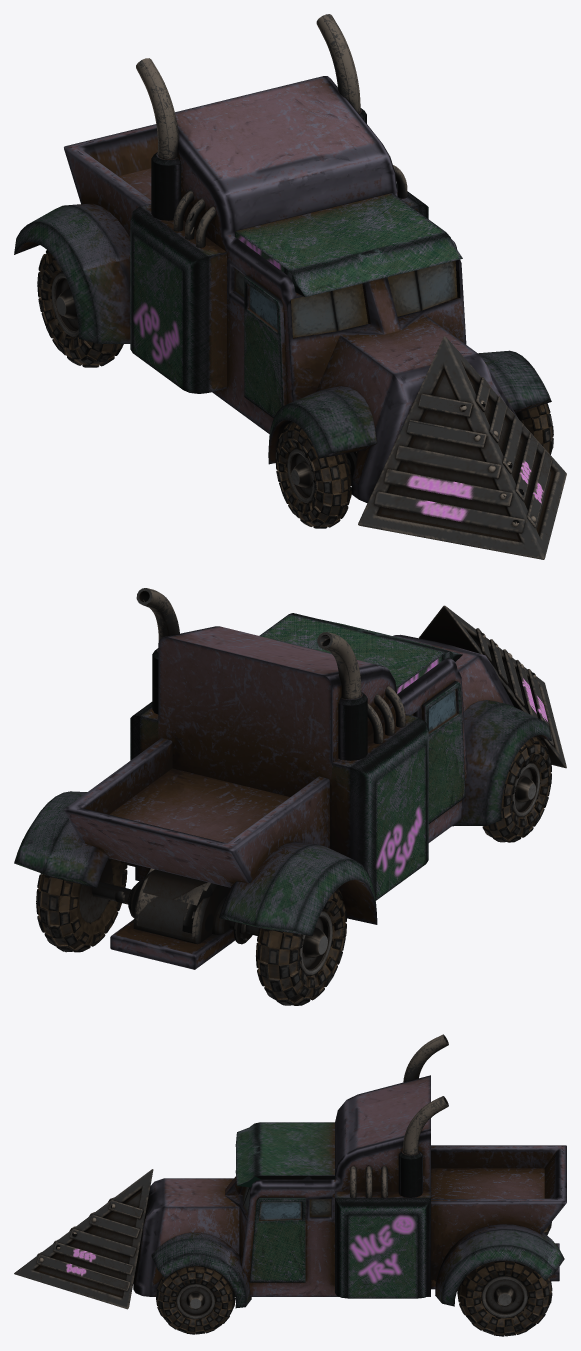
The model's file is Truck Mk1.fbx.
The picture shows the model from 3 angles, top to bottom: view 1: azimuth 30°, elevation 25°; view 2: azimuth 150°, elevation 25°; view 3: azimuth 270°, elevation 25°; orthographic projection. The views are drawn at different scales.
Parts seen in each view (by area): view 1: truck_main, t_front_R, t_rear_R, t_front_L; view 2: truck_main, t_rear_R, t_rear_L, t_front_R; view 3: truck_main, t_rear_L, t_front_L.
Boxes of the visible parts, box(x1,y1,x2,y2) form: truck_main: box(14, 14, 566, 559); t_front_R: box(275, 421, 351, 528); t_rear_R: box(37, 250, 123, 367); t_front_L: box(515, 403, 553, 454); truck_main: box(14, 588, 566, 969); t_rear_R: box(256, 888, 346, 1005); t_rear_L: box(36, 858, 127, 952); t_front_R: box(482, 735, 551, 842); truck_main: box(14, 1034, 566, 1309); t_rear_L: box(457, 1260, 552, 1336); t_front_L: box(156, 1266, 235, 1334).
Bounding box in the file's own units: 396 × 423 × 911.
